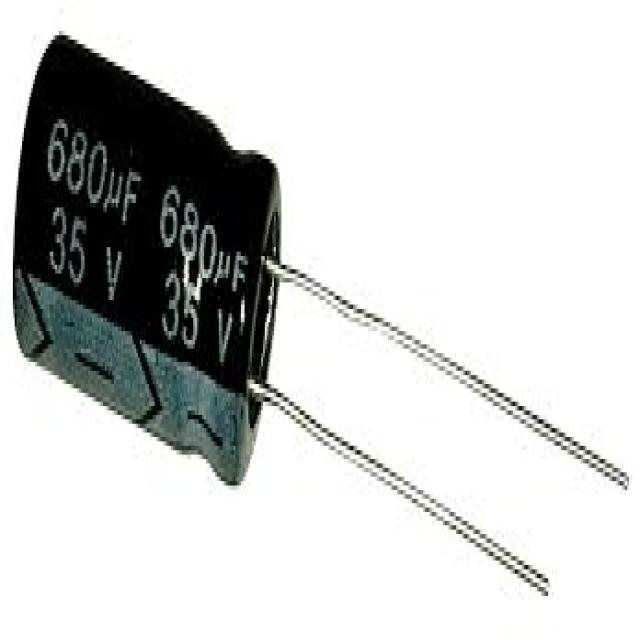Resistor: (11, 31, 281, 490)
